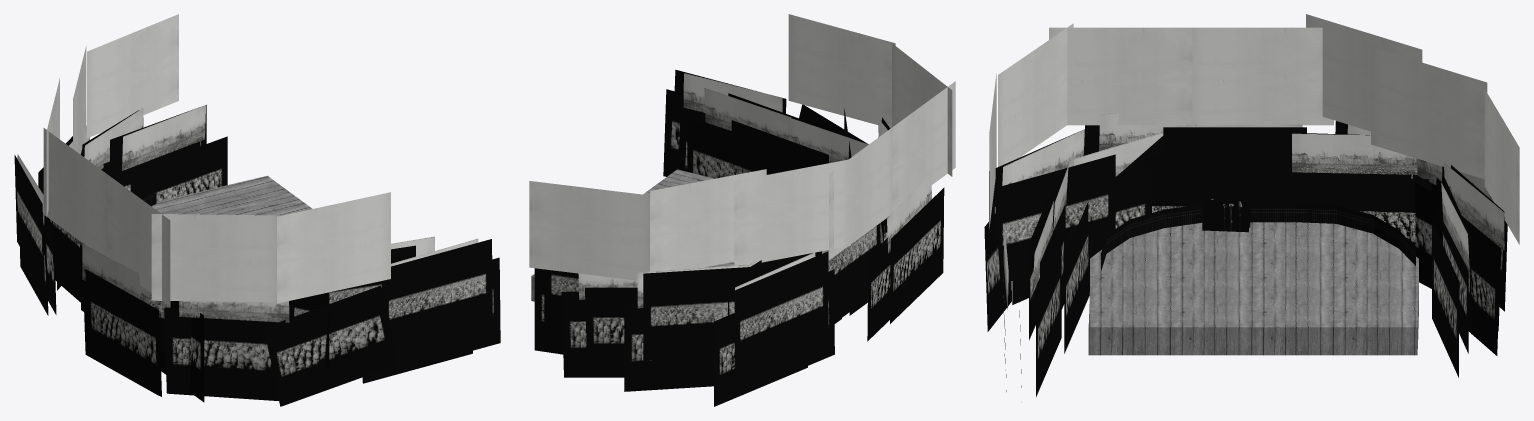
The model's file is narrativeproj.fbx.
3 renders of one model, left to right at view 1: azimuth 30°, elevation 25°; view 2: azimuth 150°, elevation 25°; view 3: azimuth 270°, elevation 25°, orthographic. The views are drawn at different scales.
Parts seen in each view (by area): view 1: Empty.136, Empty.116, Empty.137, Empty.119, Empty.134, Empty.115, Empty.109, Empty.132, Empty.131, Plane, Empty.099, Empty.097 (+18 smaller); view 2: Empty.134, Empty.135, Empty.137, Empty.106, Empty.087, Empty.133, Empty.131, Empty.109, Empty.132, Empty.101, Empty.070, Empty.136 (+22 smaller); view 3: Plane, Empty.132, Empty.131, Empty.133, Empty.083, Empty.136, Empty.135, Empty.078, Empty.090, Empty.134, Empty.084, Empty.102 (+34 smaller).
Boxes of the visible parts, <box> form: Empty.136: <box>151,214,279,302</box>; Empty.116: <box>264,285,397,406</box>; Empty.137: <box>277,192,390,303</box>; Empty.119: <box>382,239,492,351</box>; Empty.134: <box>87,14,178,138</box>; Empty.115: <box>164,307,278,400</box>; Empty.109: <box>85,269,161,396</box>; Empty.132: <box>43,128,107,256</box>; Empty.131: <box>107,174,170,306</box>; Plane: <box>151,175,312,215</box>; Empty.099: <box>130,136,227,201</box>; Empty.097: <box>122,105,205,170</box>; Empty.134: <box>529,181,649,280</box>; Empty.135: <box>734,159,850,265</box>; Empty.137: <box>788,14,895,128</box>; Empty.106: <box>734,251,828,375</box>; Empty.087: <box>643,266,769,360</box>; Empty.133: <box>650,169,766,271</box>; Empty.131: <box>892,81,955,212</box>; Empty.109: <box>890,187,944,323</box>; Empty.132: <box>829,127,892,259</box>; Empty.101: <box>585,287,637,373</box>; Empty.070: <box>687,118,784,178</box>; Empty.136: <box>892,43,952,176</box>; Plane: <box>1088,222,1418,355</box>; Empty.132: <box>1190,27,1333,125</box>; Empty.131: <box>1049,27,1192,125</box>; Empty.133: <box>1371,47,1487,179</box>; Empty.083: <box>995,154,1115,283</box>; Empty.136: <box>998,23,1073,166</box>; Empty.135: <box>1306,14,1422,131</box>; Empty.078: <box>1294,175,1431,246</box>; Empty.090: <box>1292,133,1417,174</box>; Empty.134: <box>1484,89,1519,244</box>; Empty.084: <box>1163,128,1306,155</box>; Empty.102: <box>1434,202,1500,355</box>.
Bounding box in the file's own units: 1460 × 889 × 1861.
Materials: 70 (70 with a texture image).
